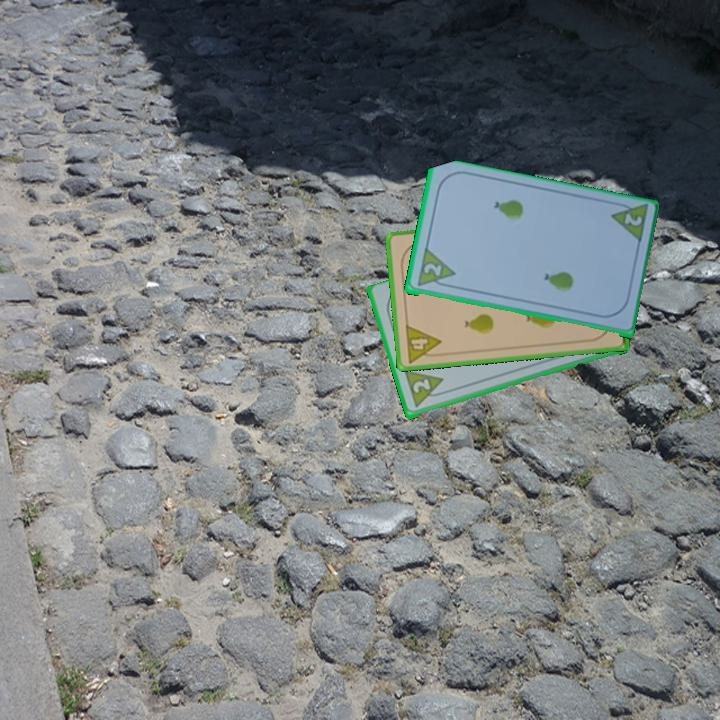2p: (409, 376, 433, 397), (620, 210, 645, 229), (420, 260, 444, 279)
4p: (402, 321, 445, 366)
